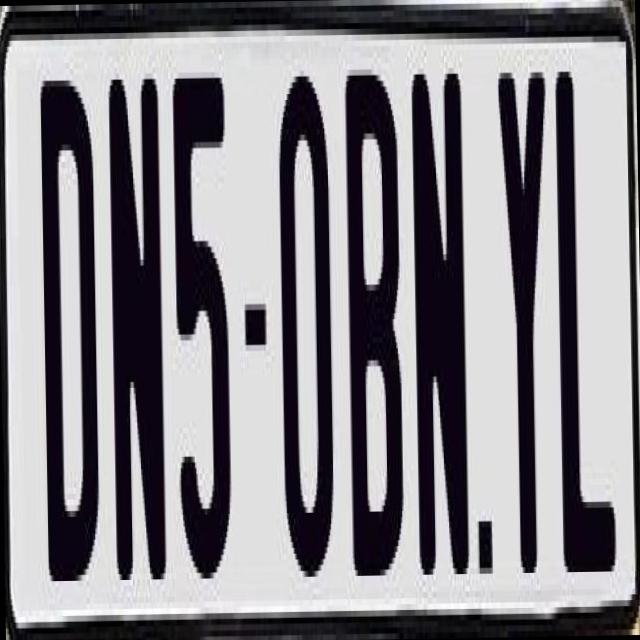0: (276, 57, 340, 588)
5: (169, 59, 235, 578)
B: (342, 68, 404, 587)
D: (40, 73, 102, 604)
L: (550, 58, 612, 560)
N: (408, 67, 474, 586), (105, 66, 169, 580)
Y: (495, 71, 558, 608)
